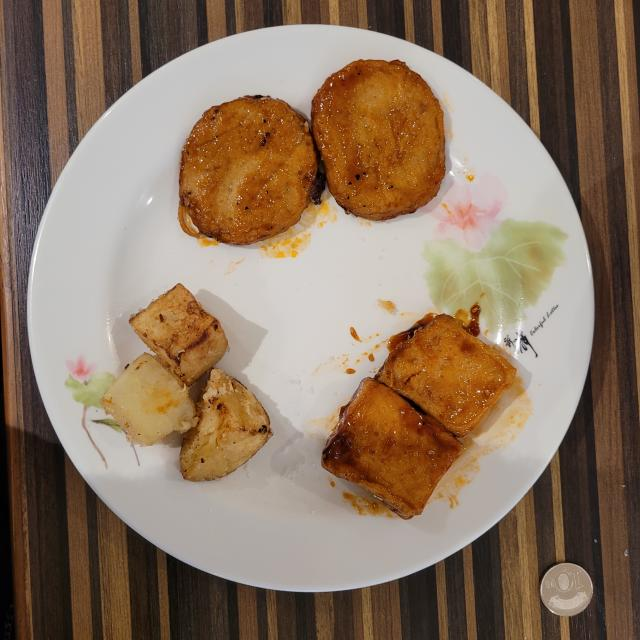coin: (540, 562, 592, 616)
creamy tofu: (321, 304, 516, 519)
fish cake: (180, 60, 445, 245)
fried potato: (100, 284, 272, 481)
